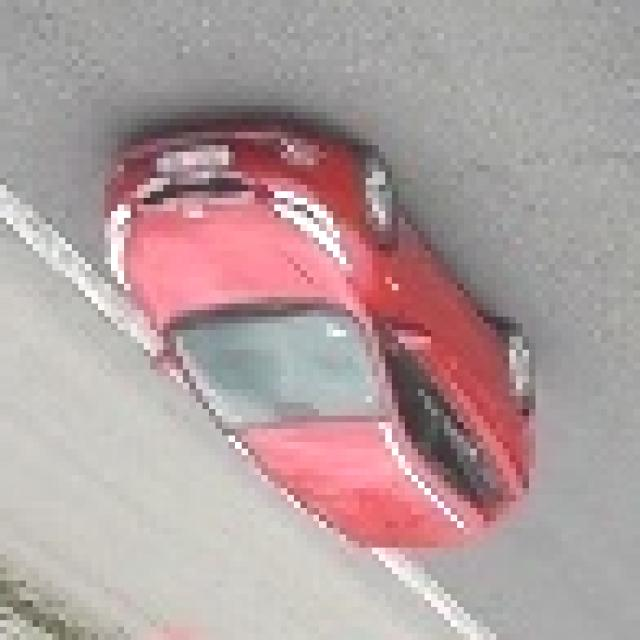red: (112, 122, 531, 550)
